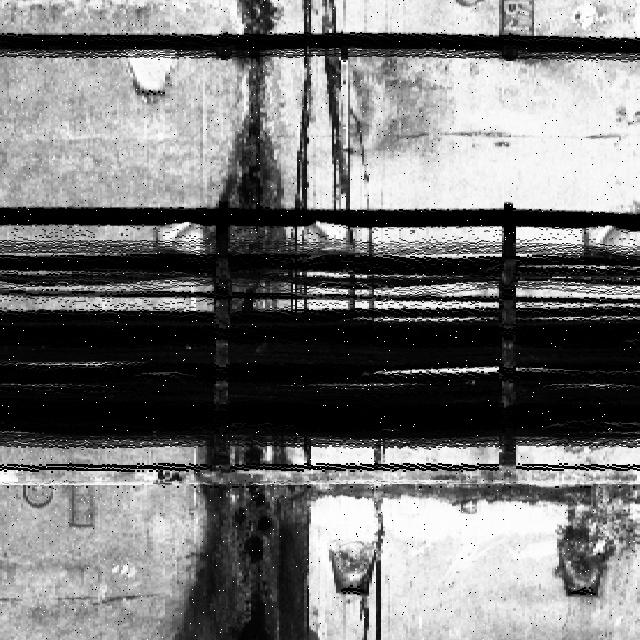leakage: (159, 441, 324, 640), (199, 1, 299, 296)
